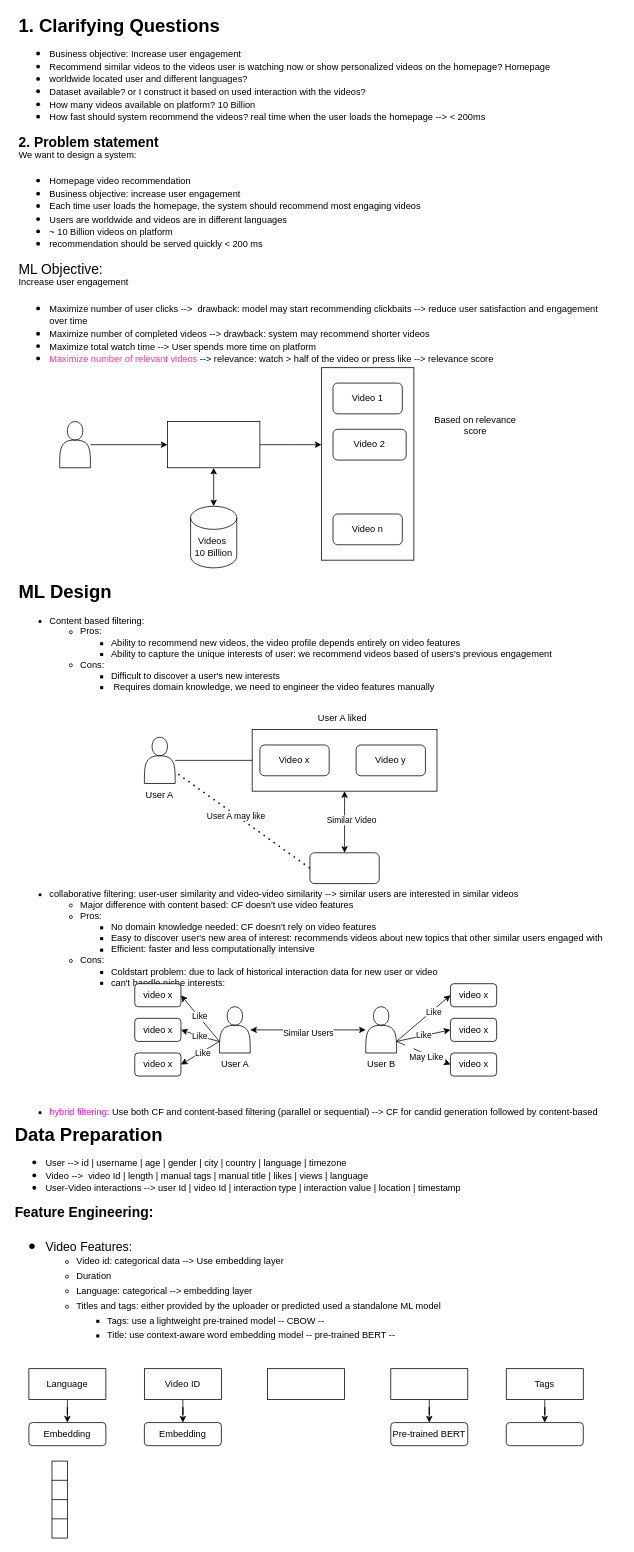
Image size: 634x1552. Some labels were removed from this diagram. Each missing label, with the centre of its shape:
CBOW: (x=544, y=1434)
Duration: (x=306, y=1383)
Title: (x=429, y=1383)
Video recommendation system: (x=213, y=444)
Video z: (x=344, y=868)
